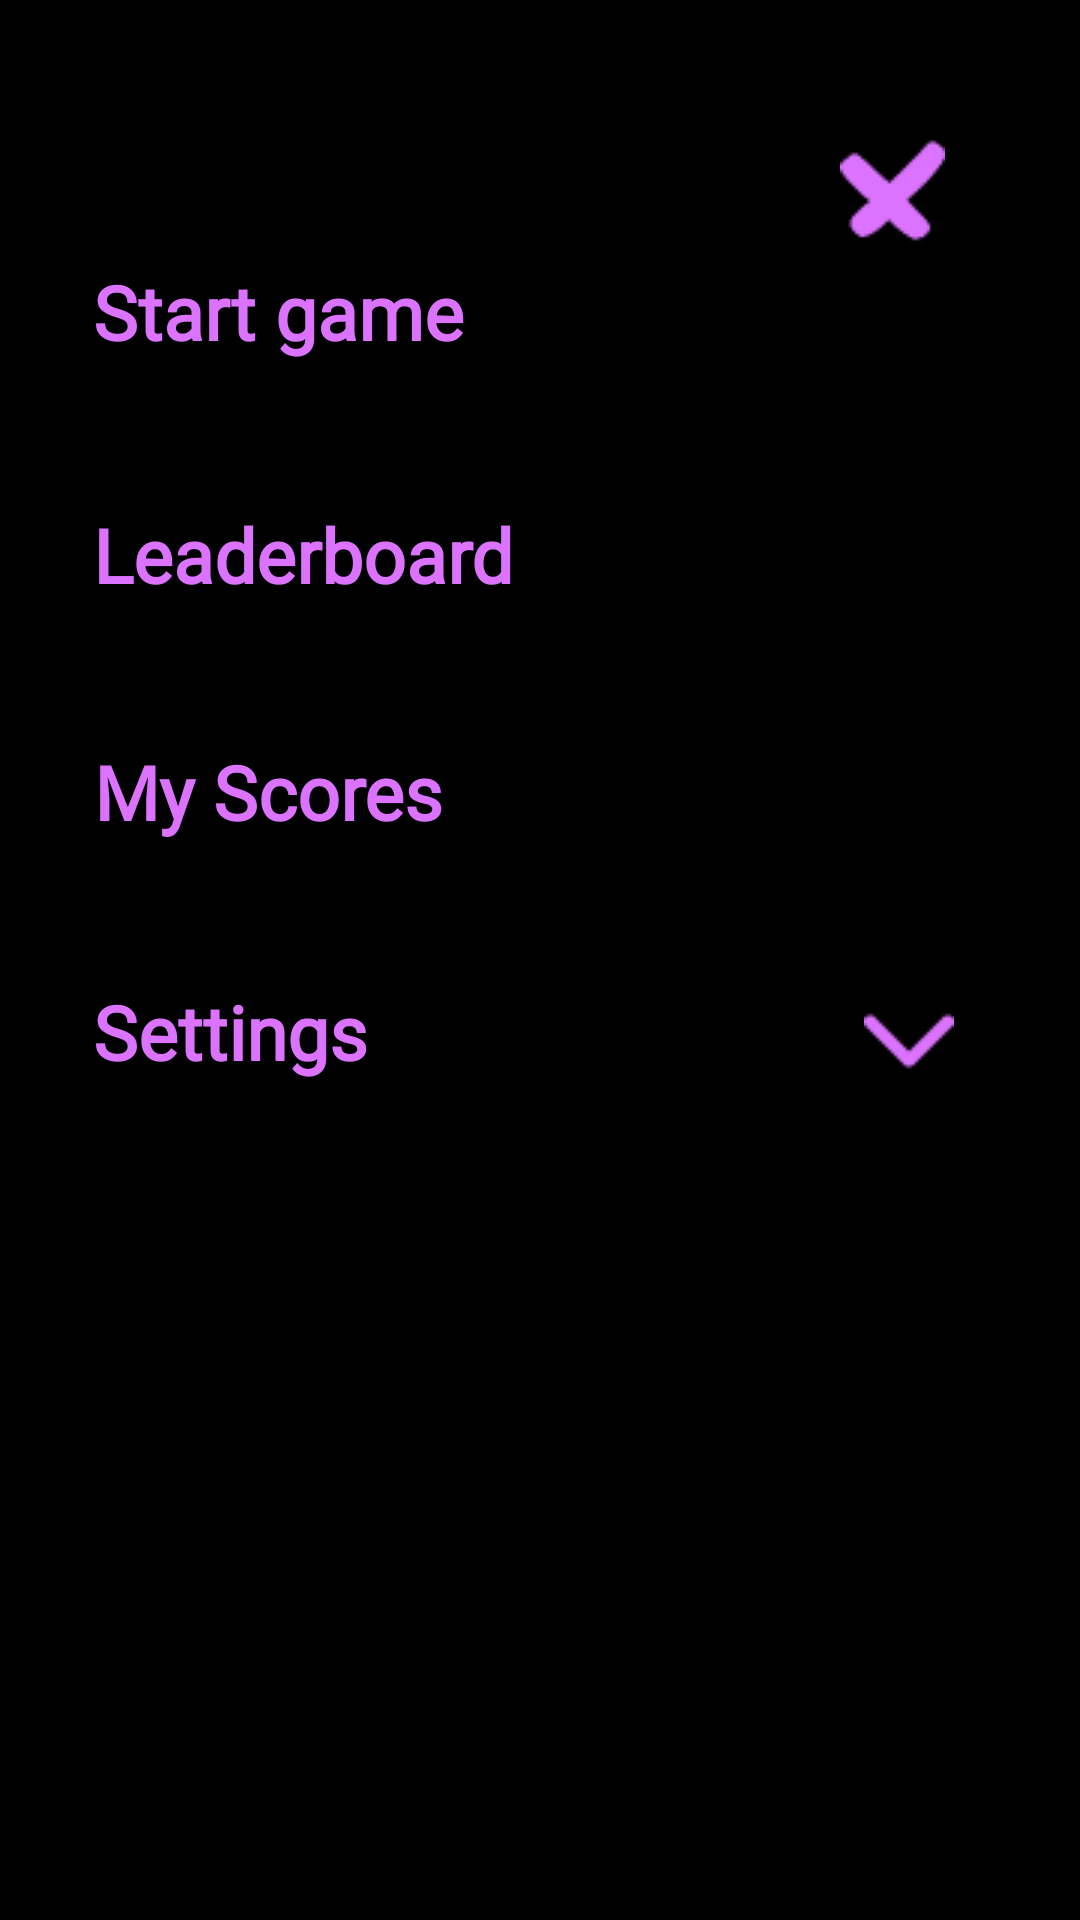

Named icons in this screenshot (1080×1920) and their bounding boxes, {"left": x1, "top": y1, "right": x2, "bottom": y2}:
down: {"left": 864, "top": 1013, "right": 954, "bottom": 1069}
exit: {"left": 840, "top": 140, "right": 945, "bottom": 241}
